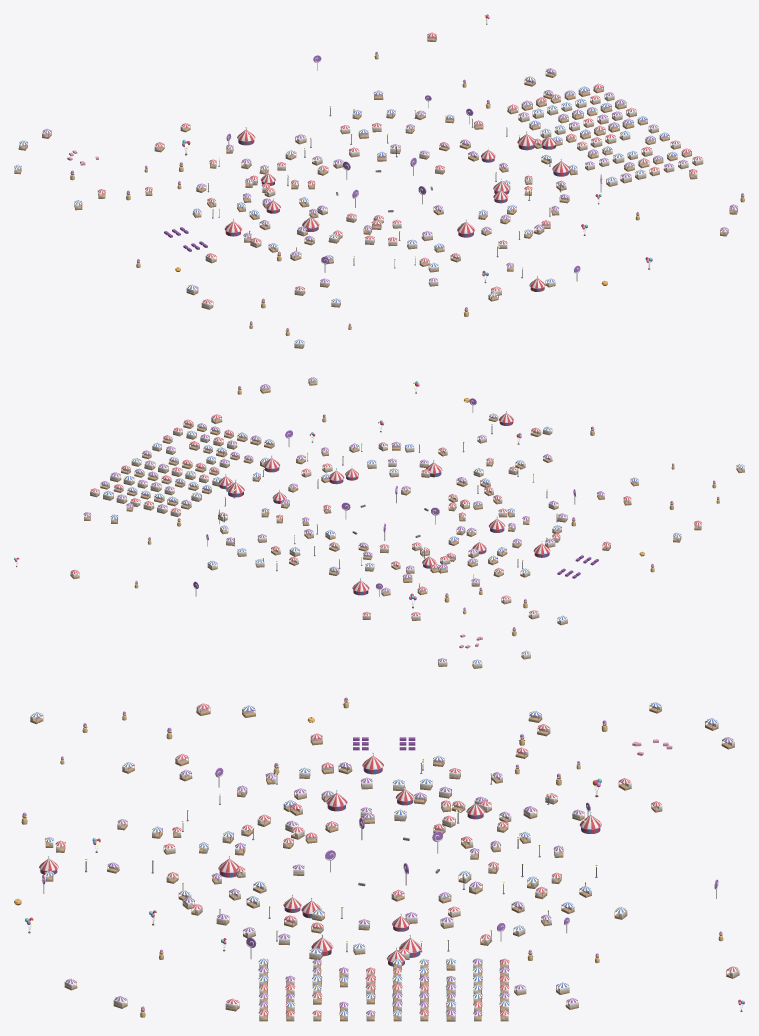
Rendered from CursedCandyCarnival_GameplayProps.fbx.
3 views of the same model, one above another, from view 1: azimuth 30°, elevation 25°; view 2: azimuth 150°, elevation 25°; view 3: azimuth 270°, elevation 25° (orthographic). The views are drawn at different scales.
Size of the model in its own units: 335 by 13.2 by 328.
